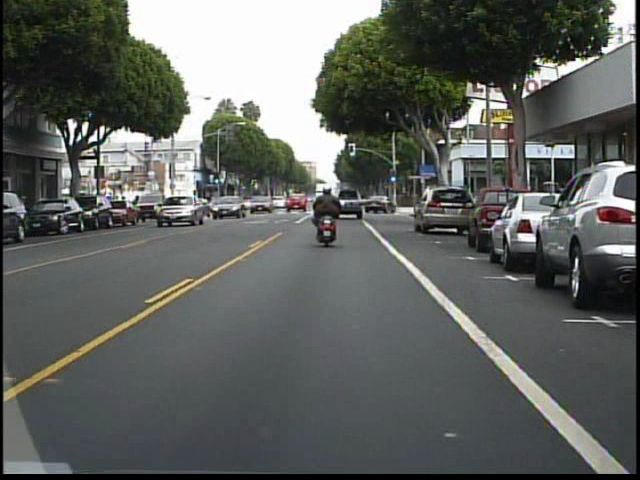person: (309, 180, 345, 247)
